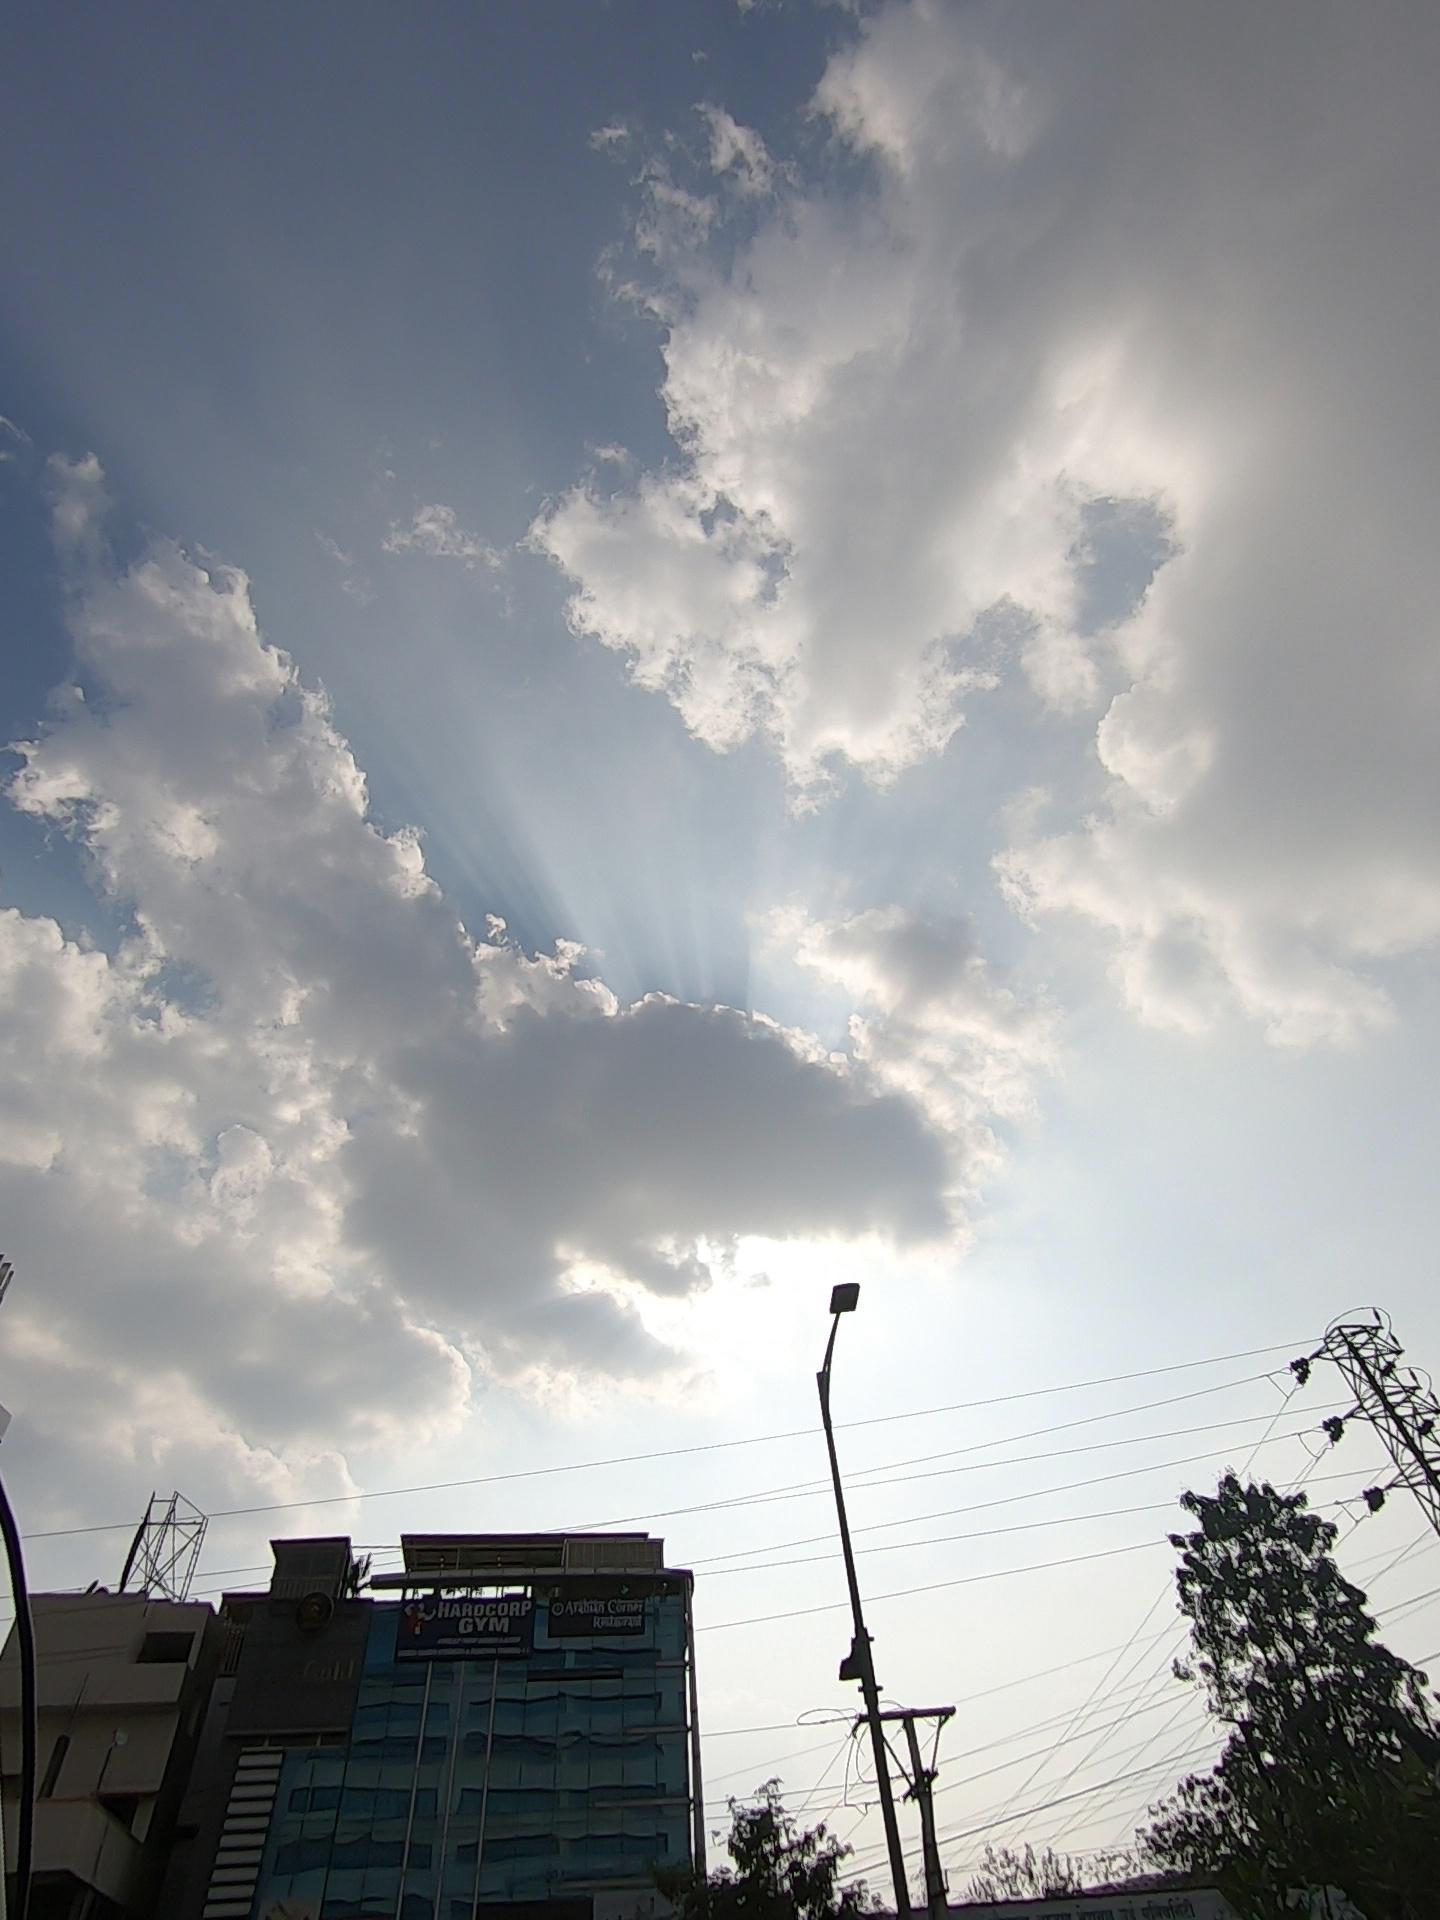off: (705, 1126, 923, 1580)
